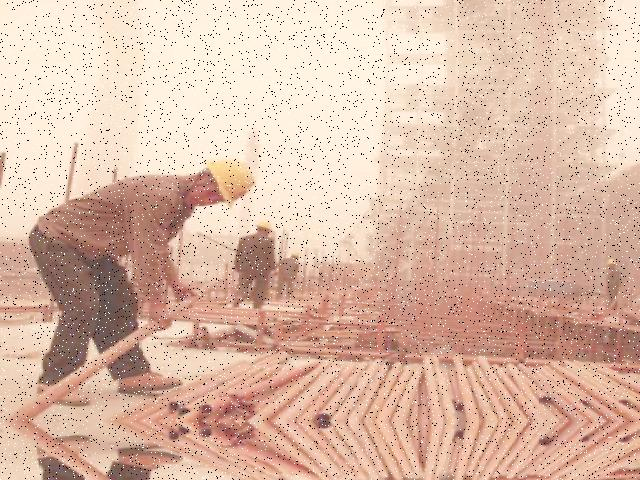Helmet: (199, 148, 264, 210)
